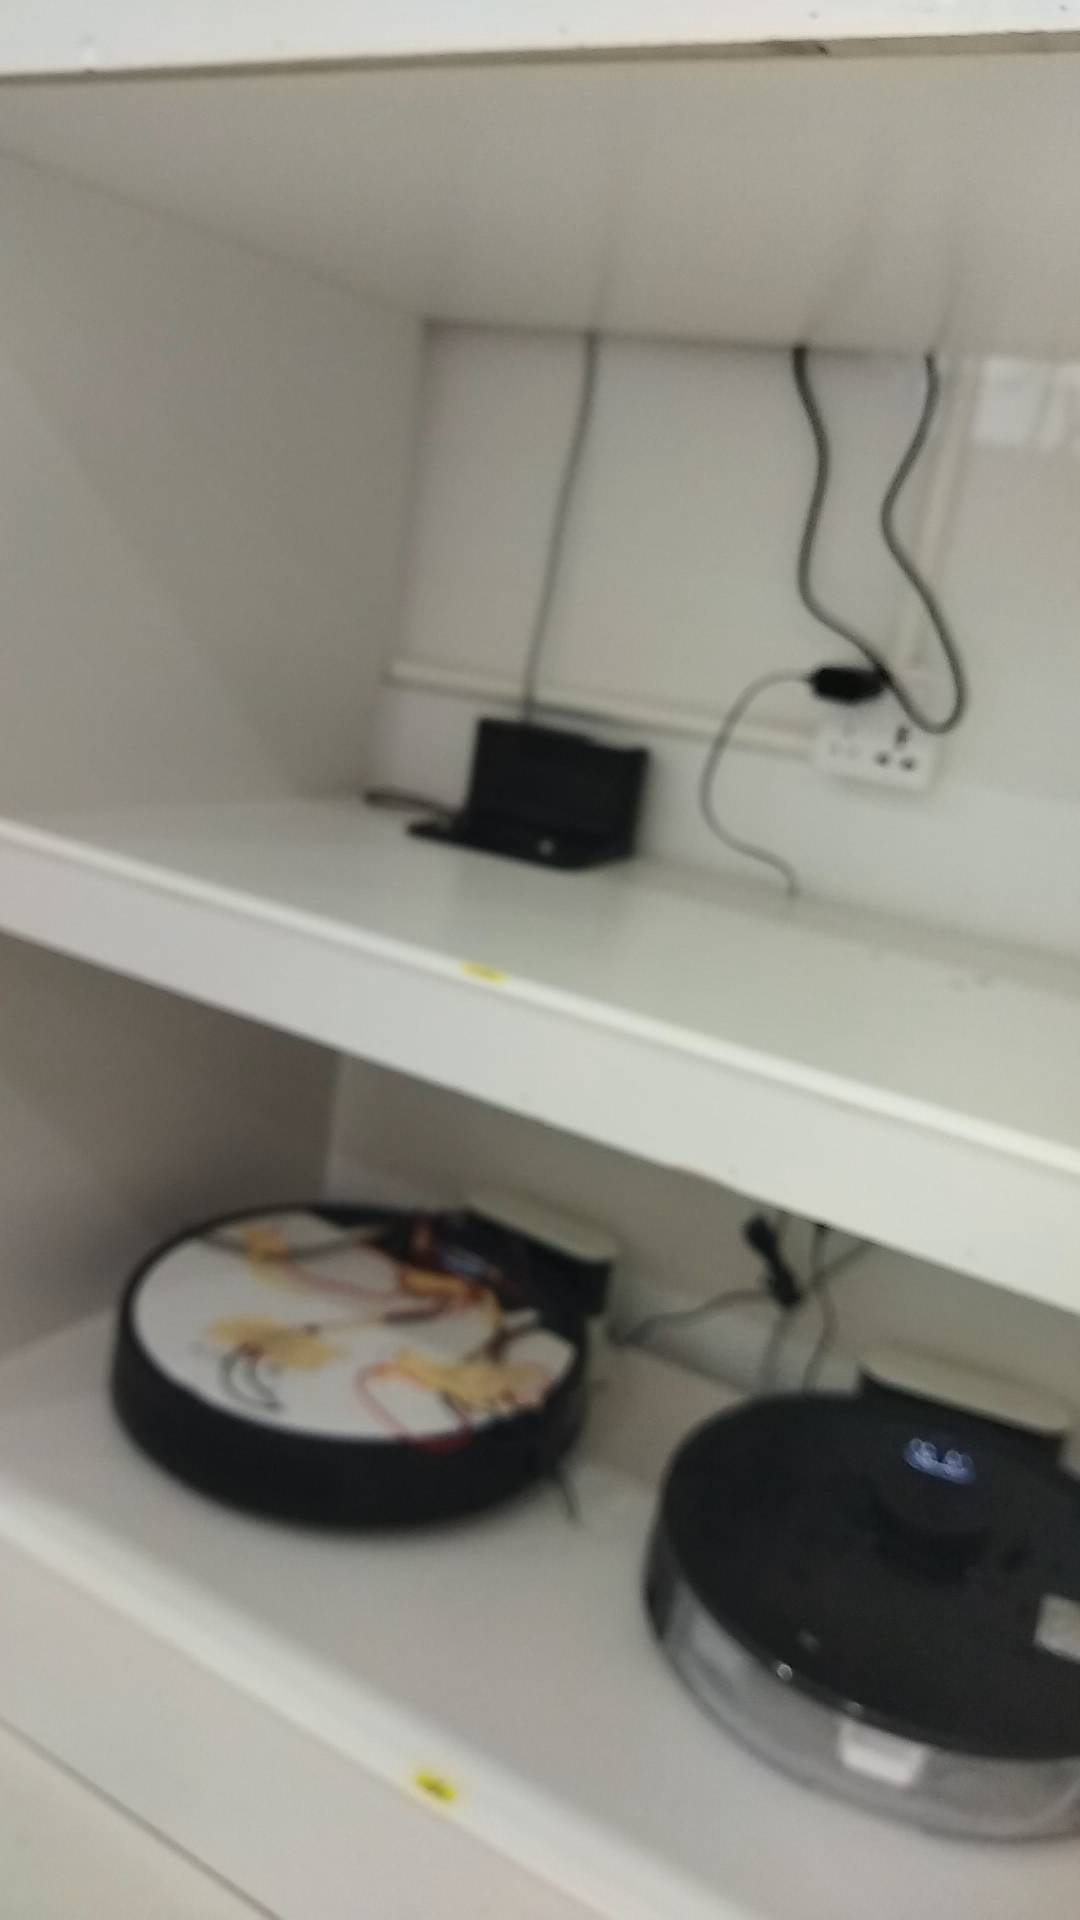recharge seat: (407, 715, 651, 874), (469, 1179, 626, 1381), (851, 1336, 1075, 1452)
